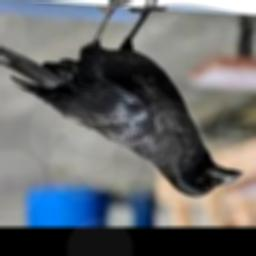Crow: (0, 0, 244, 199)
